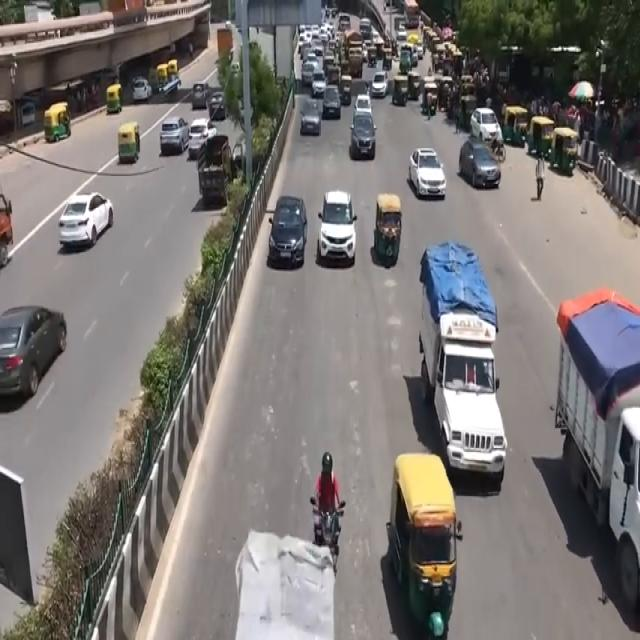TRUCK: (561, 296, 639, 631), (420, 249, 502, 503)
